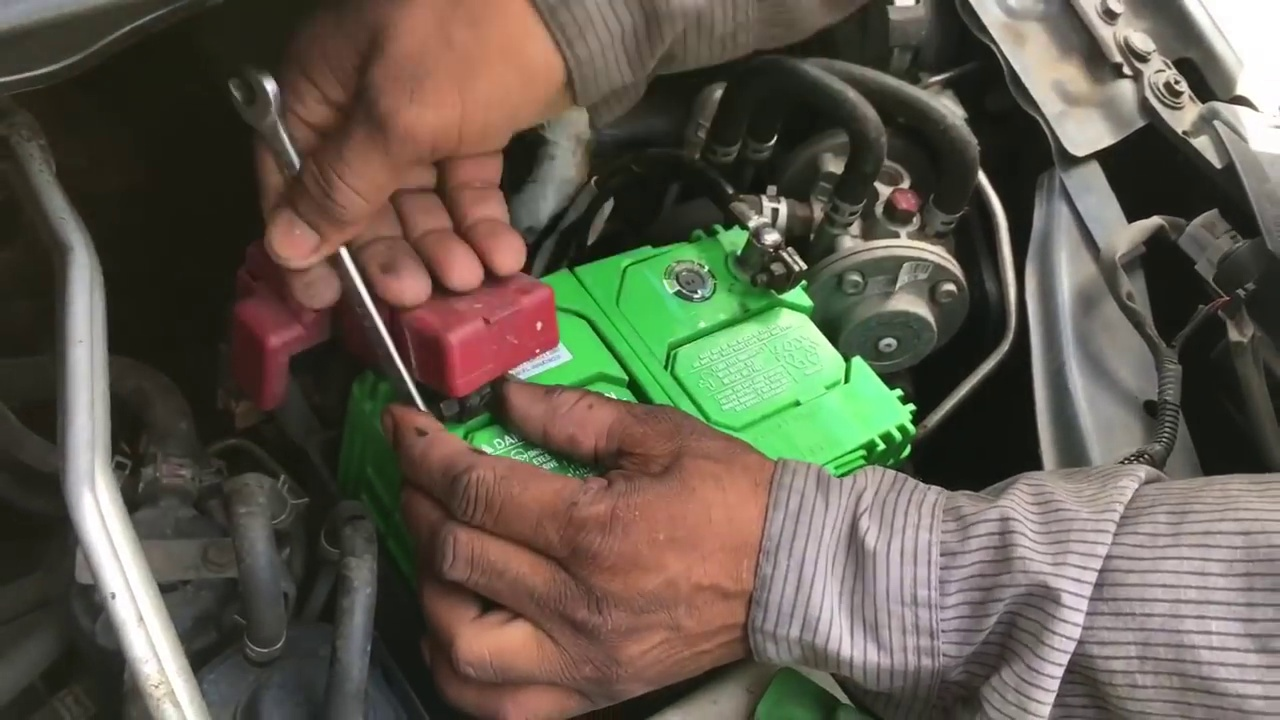battery: (355, 215, 909, 510)
neg_connected: (703, 170, 808, 330)
pos_touched: (286, 195, 571, 517)
